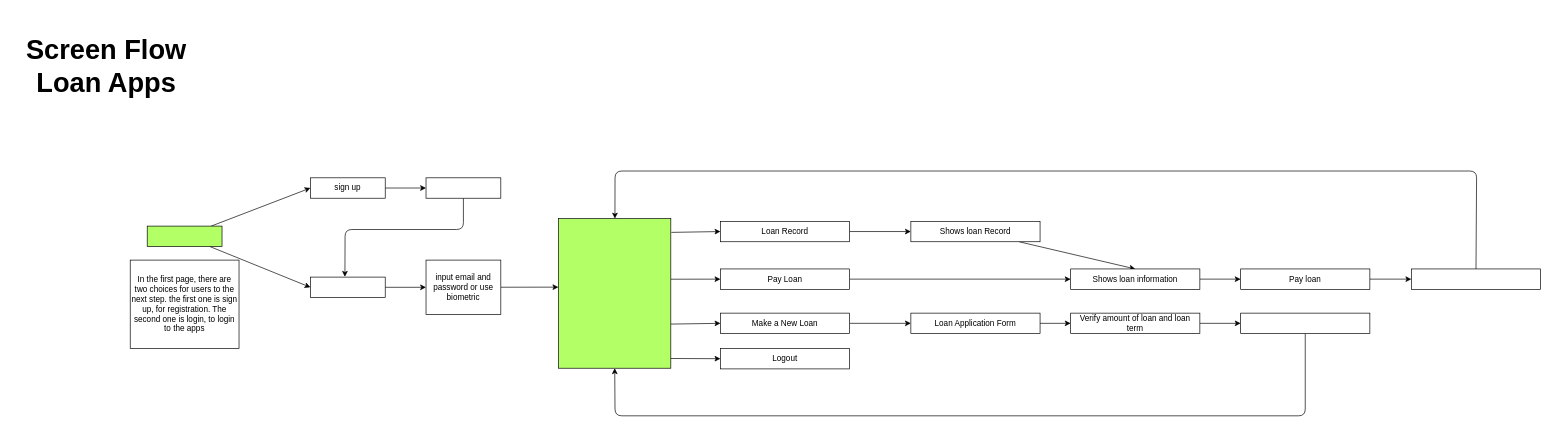
Some shapes in this 1552 by 433 pixel diagram are drawn without their labels. The centre of each missing label's shape, as x and y in pixels:
First Page: the point at 184,236
Home Page: the point at 614,293
Loan application result: the point at 1305,323
login: the point at 347,287
Payment result: the point at 1476,278
registration: the point at 463,187
